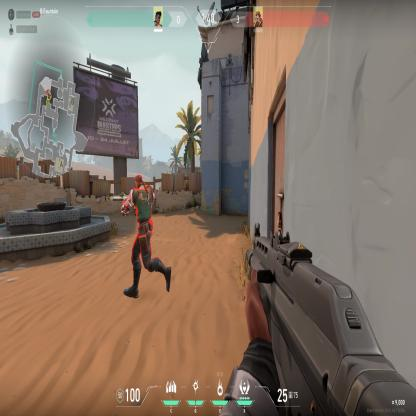enemy: (122, 176, 172, 302)
